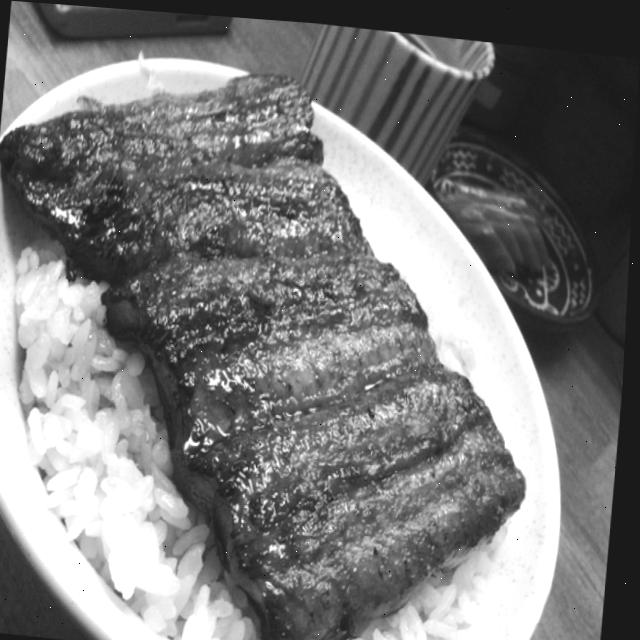熟制海鲜: (0, 39, 588, 640)
